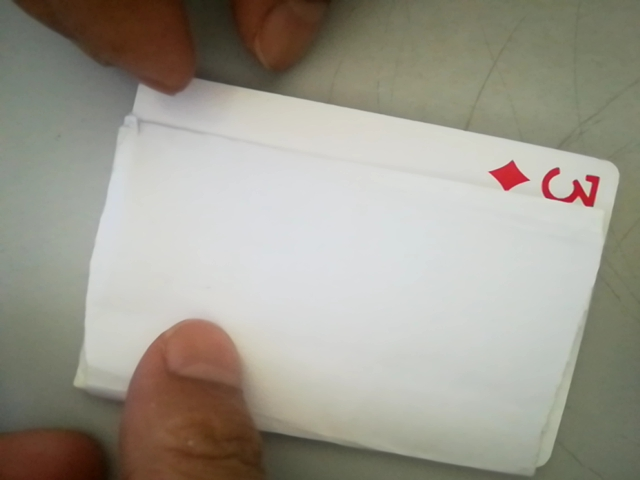fk 3: (508, 159, 608, 210)
